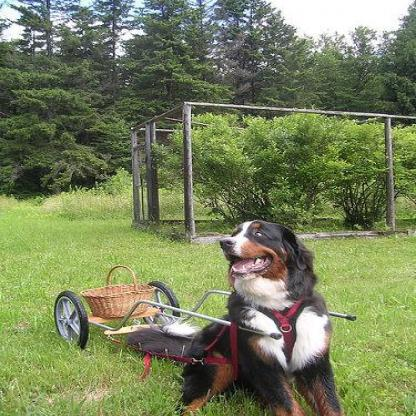Bernese_mountain_dog: (180, 220, 342, 414)
